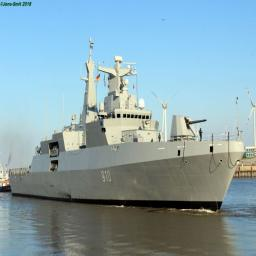Fragata: (7, 38, 252, 214)
